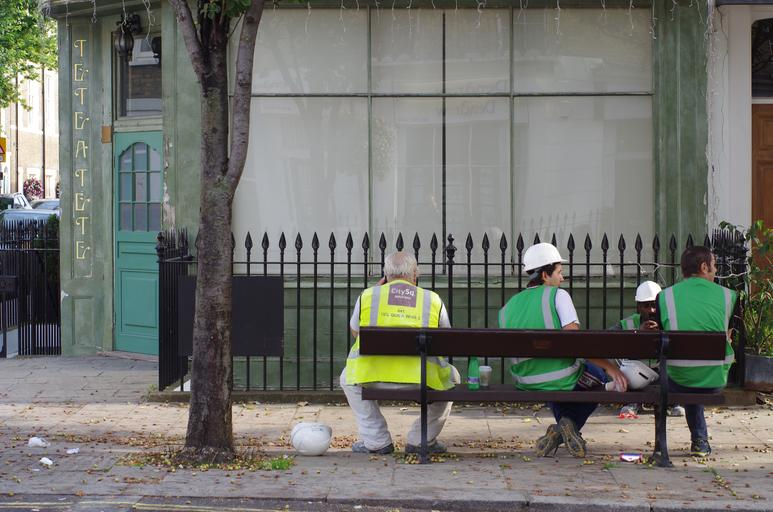Hard Hat: (522, 245, 568, 289), (632, 281, 663, 322)
Person: (499, 245, 626, 461), (340, 252, 457, 454), (658, 248, 744, 457), (612, 281, 669, 368)
Vest: (346, 251, 457, 390), (658, 248, 744, 388), (499, 265, 588, 388), (616, 299, 662, 368)
